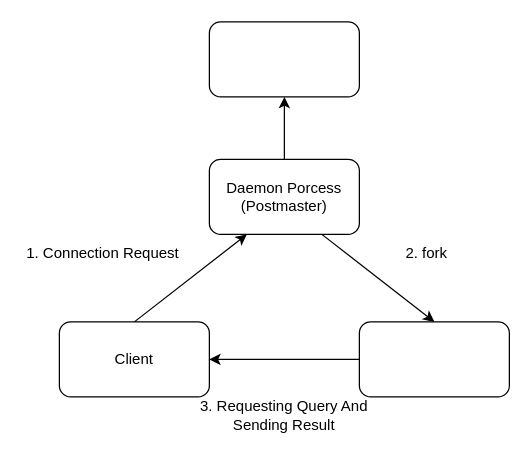
Some shapes in this 531 by 456 pixel diagram are drawn without their labels. Here are the shapes that lost their labels. From the top down, the box of each, then its label:
(208, 21, 359, 97): Background Process
(358, 321, 509, 397): Backend Process
